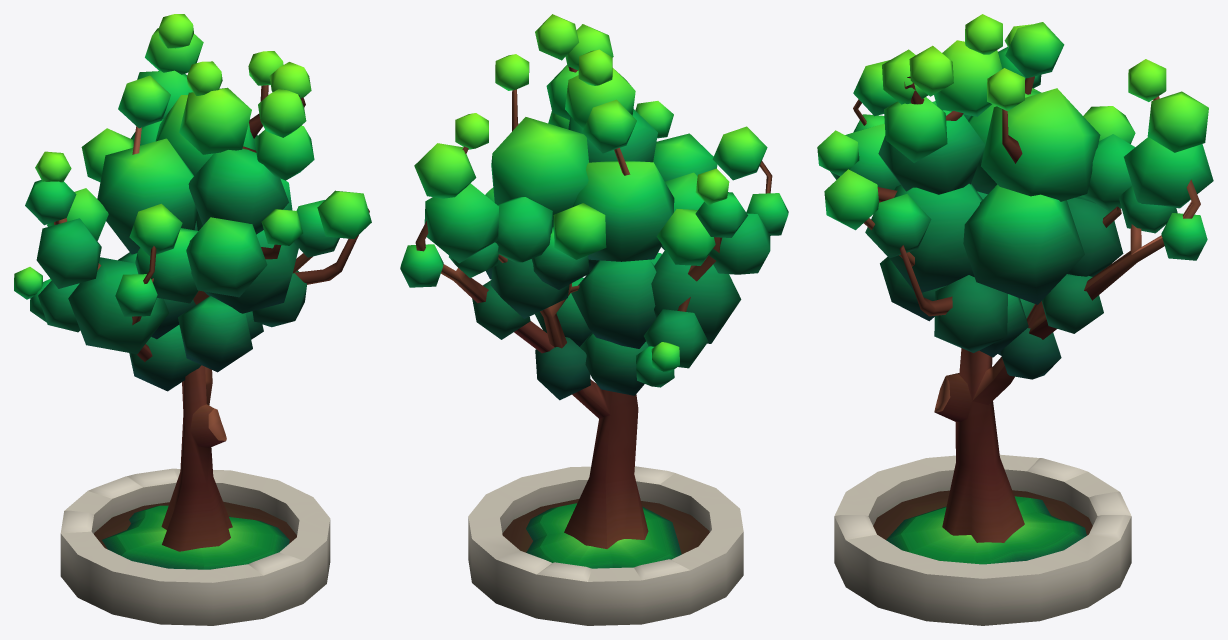
Rendered from Tree_1D.fbx.
3 renders of one model, left to right at view 1: azimuth 30°, elevation 25°; view 2: azimuth 150°, elevation 25°; view 3: azimuth 270°, elevation 25°, orthographic. The views are drawn at different scales.
Visible parts, largest first — view 1: Tree_1D; view 2: Tree_1D; view 3: Tree_1D.
Part boxes in pixels (x1,y1,x2,y2): Tree_1D: [14, 14, 371, 625]; Tree_1D: [400, 14, 788, 625]; Tree_1D: [817, 14, 1213, 625].
Bounding box in the file's own units: 154 × 250 × 163.
